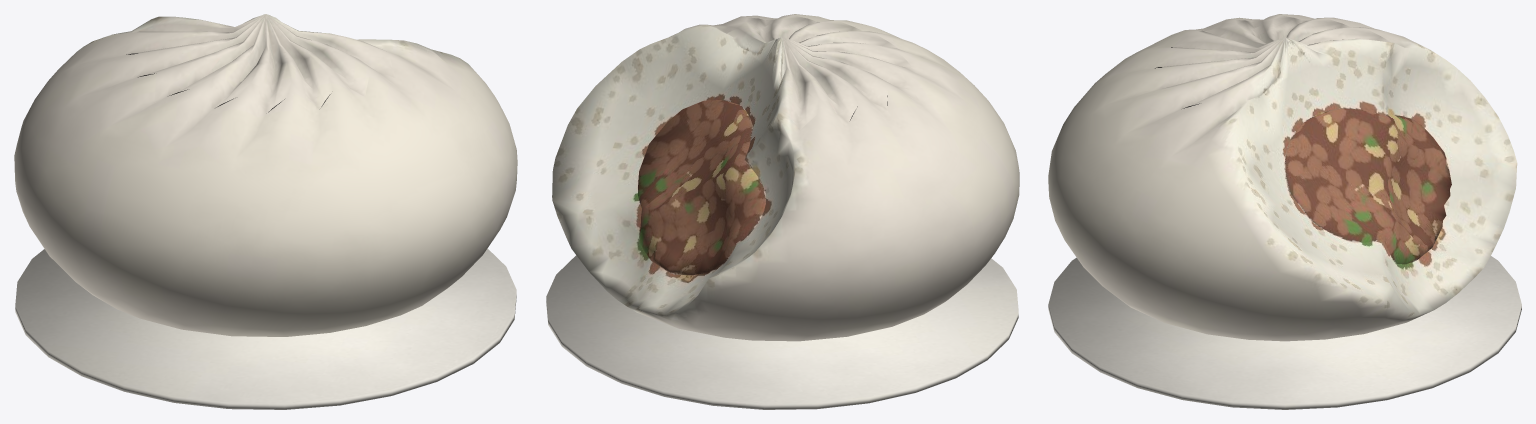
The model's file is nikuman_b1.glb.
3 views of the same model, side by side, from view 1: azimuth 30°, elevation 25°; view 2: azimuth 150°, elevation 25°; view 3: azimuth 270°, elevation 25° (orthographic). The views are drawn at different scales.
Visible parts, largest first — view 1: prop_nikuman_b1_felt; view 2: prop_nikuman_b1_felt; view 3: prop_nikuman_b1_felt.
Boxes of the visible parts, x1,y1,x2,y2 form: prop_nikuman_b1_felt: (14,14,517,409); prop_nikuman_b1_felt: (546,14,1019,409); prop_nikuman_b1_felt: (1048,14,1521,409).
Size of the model in its own units: 0.1652 by 0.105 by 0.1651.
Materials: 1 (1 with a texture image).
